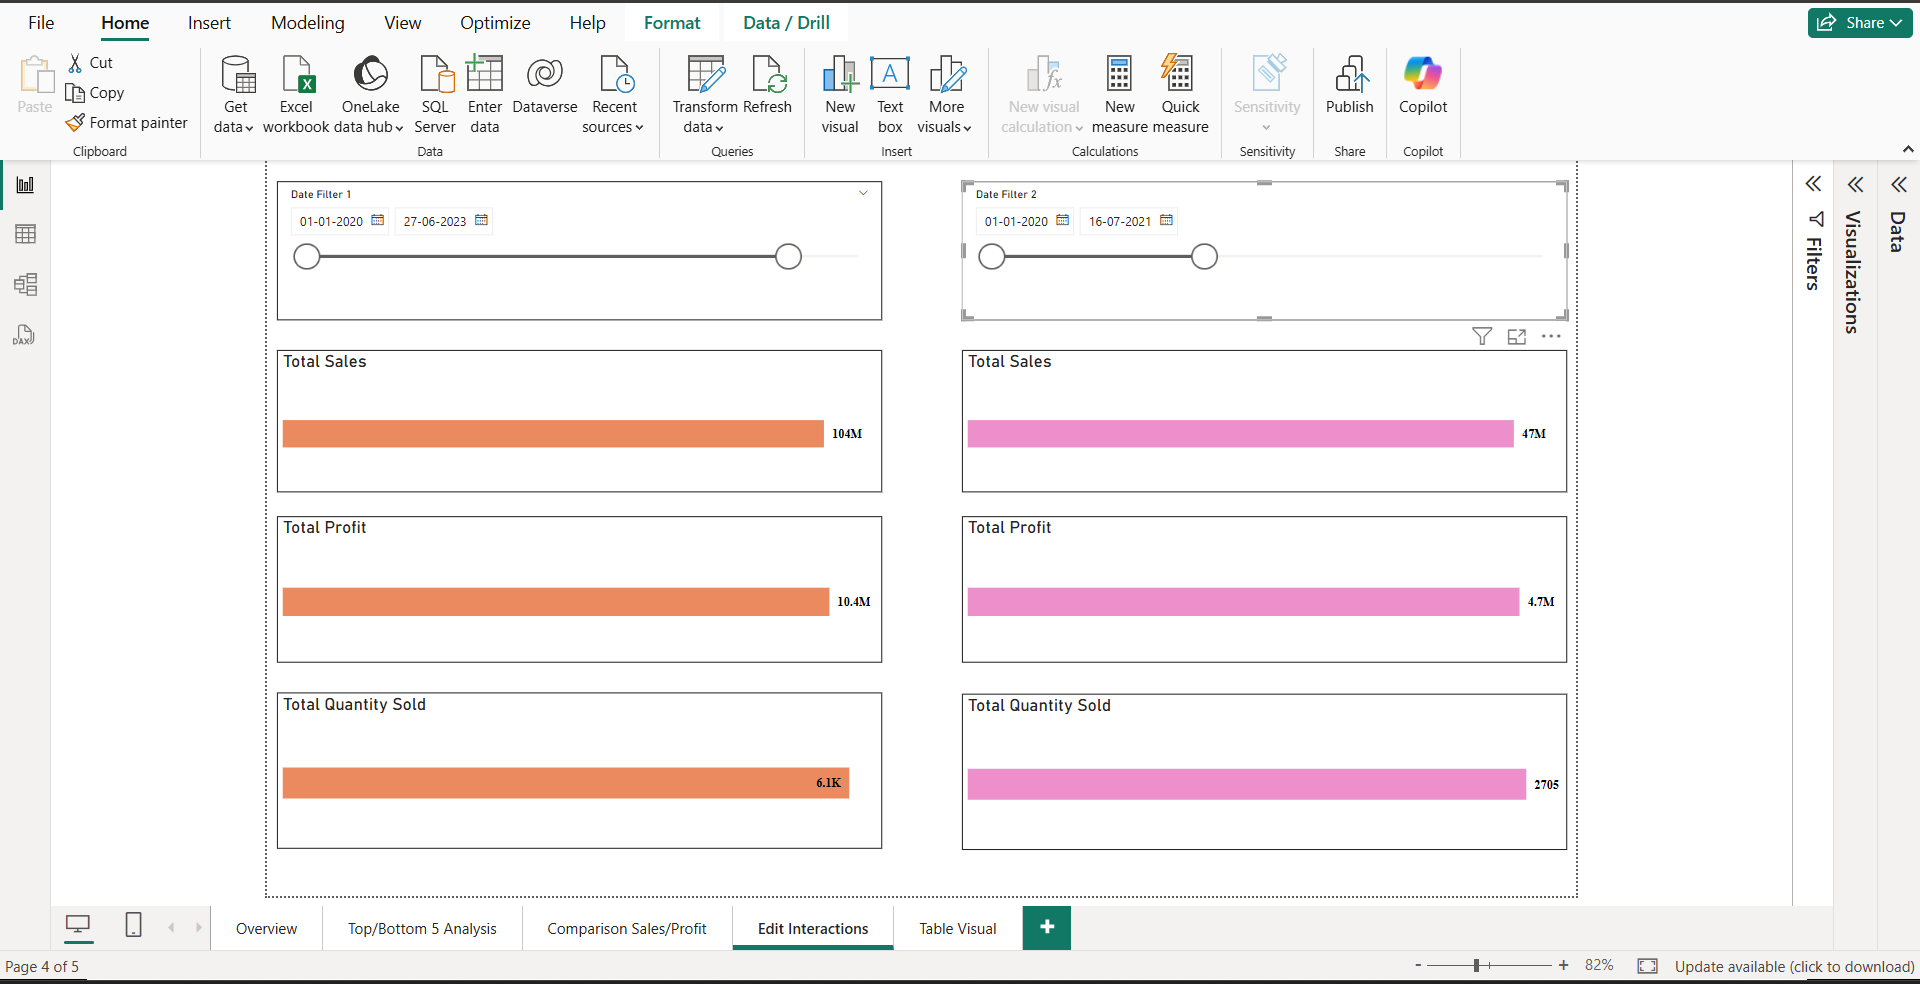

The page's visual inventory and layout, read from the dashboard file:
{"tool":"powerbi","page":{"name":"Edit Interactions","canvas":[1280,720],"ordinal":3},"visuals":[{"type":"slicer","fields":{"Values":["Fact Table.Date (dd/mm/yyyy)"]},"box":[9.8,20.8,591.9,135.7],"z":0},{"type":"slicer","fields":{"Values":["Fact Table.Date (dd/mm/yyyy)"]},"box":[679.9,20.8,591.9,135.7],"z":1},{"type":"barChart","title":"Total Sales  ","fields":{"Y":["Sum(Fact Table.Net Sales  )"]},"box":[9.8,185.9,591.9,139.4],"z":2},{"type":"barChart","title":"Total Profit","fields":{"Y":["Sum(Fact Table.Profit)"]},"box":[9.8,348.5,591.9,143.1],"z":3},{"type":"barChart","title":"Total Quantity Sold ","fields":{"Y":["Sum(Fact Table.Units Sold)"]},"box":[9.8,520.9,591.9,152.9],"z":4},{"type":"barChart","title":"Total Sales  ","fields":{"Y":["Sum(Fact Table.Net Sales  )"]},"box":[679.9,185.9,591.9,139.4],"z":5},{"type":"barChart","title":"Total Profit","fields":{"Y":["Sum(Fact Table.Profit)"]},"box":[679.9,348.5,591.9,143.1],"z":6},{"type":"barChart","title":"Total Quantity Sold ","fields":{"Y":["Sum(Fact Table.Units Sold)"]},"box":[679.9,522.1,591.9,152.9],"z":7}]}

Visuals, with their boxes on the page's 1280x720 design canvas (x1, y1, x2, y2). These are canvas units, not pixel positions in the 1920x984 screenshot, which may show the page scaled, cropped or inside an application window:
slicer - Fact Table.Date (dd/mm/yyyy): l=10, t=21, r=602, b=156
slicer - Fact Table.Date (dd/mm/yyyy): l=680, t=21, r=1272, b=156
"Total Sales  " barChart: l=10, t=186, r=602, b=325
"Total Profit" barChart: l=10, t=348, r=602, b=492
"Total Quantity Sold " barChart: l=10, t=521, r=602, b=674
"Total Sales  " barChart: l=680, t=186, r=1272, b=325
"Total Profit" barChart: l=680, t=348, r=1272, b=492
"Total Quantity Sold " barChart: l=680, t=522, r=1272, b=675
